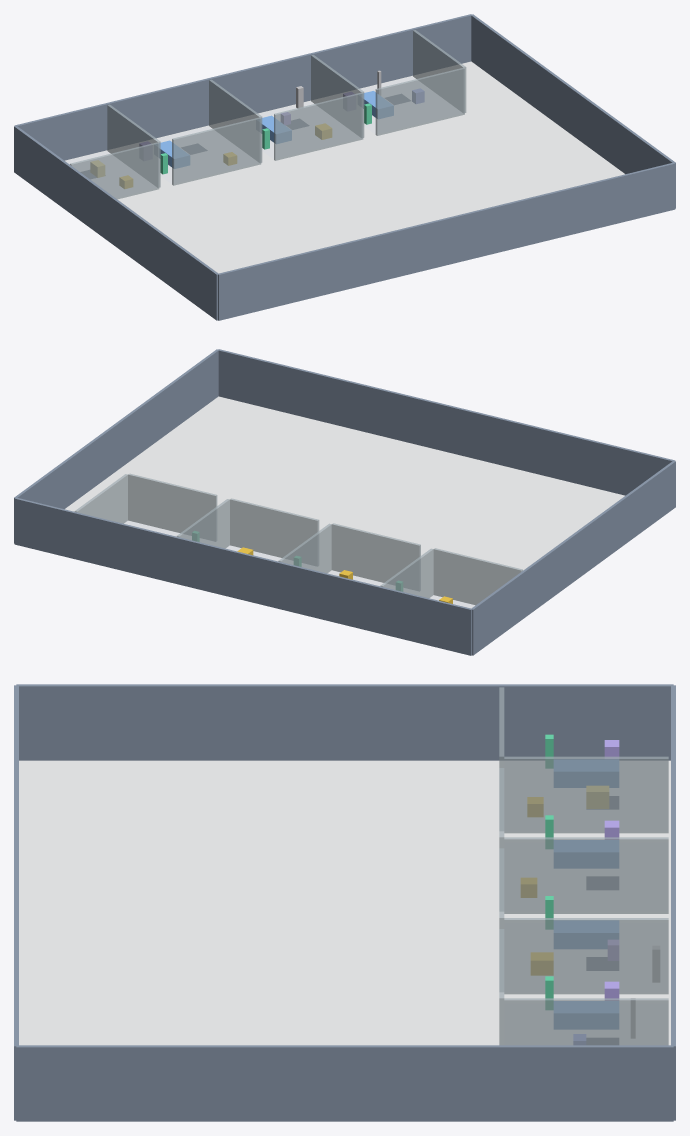
Rendered from bld_mmhro5ix_ya0pur7.glb.
3 views of the same model, one above another, from view 1: azimuth 30°, elevation 25°; view 2: azimuth 150°, elevation 25°; view 3: azimuth 270°, elevation 25° (orthographic). The views are drawn at different scales.
Parts seen in each view (by area): view 1: exported-buildings; view 2: exported-buildings; view 3: exported-buildings.
Boxes of the visible parts, x1,y1,x2,y2 form: exported-buildings: [14, 14, 675, 320]; exported-buildings: [14, 349, 675, 655]; exported-buildings: [14, 684, 675, 1121].
Size of the model in its own units: 26.15 by 2.51 by 20.15.
